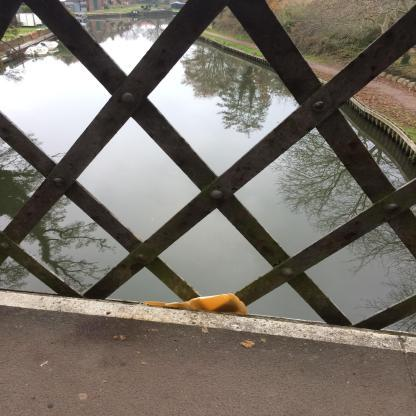cardboard: (144, 294, 248, 316)
